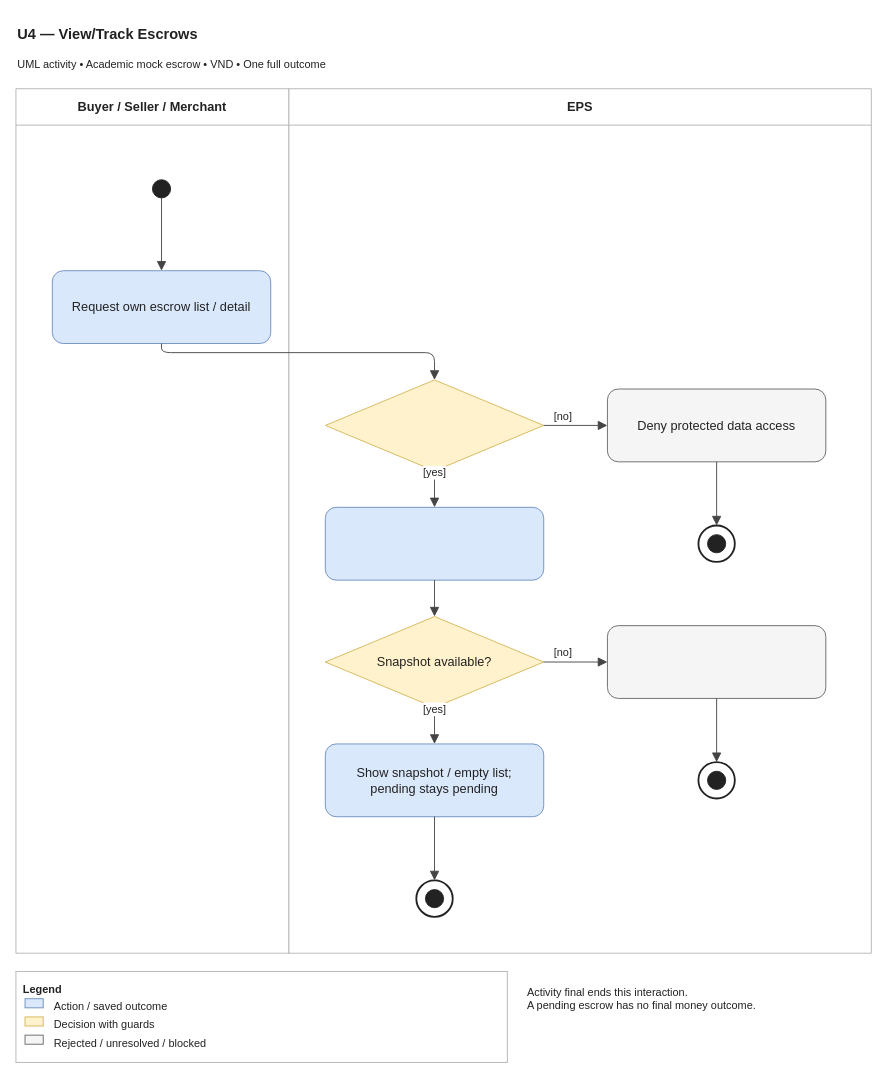
The diagram is 887 pixels wide and 1078 high, and some of its shapes have lost their labels. Each missing label, with the centre of its shape:
Caller + scope valid?: the point at 434,425
Read authorized, consistent escrow snapshot: the point at 434,543
Report query unavailable; invent no status: the point at 716,661
